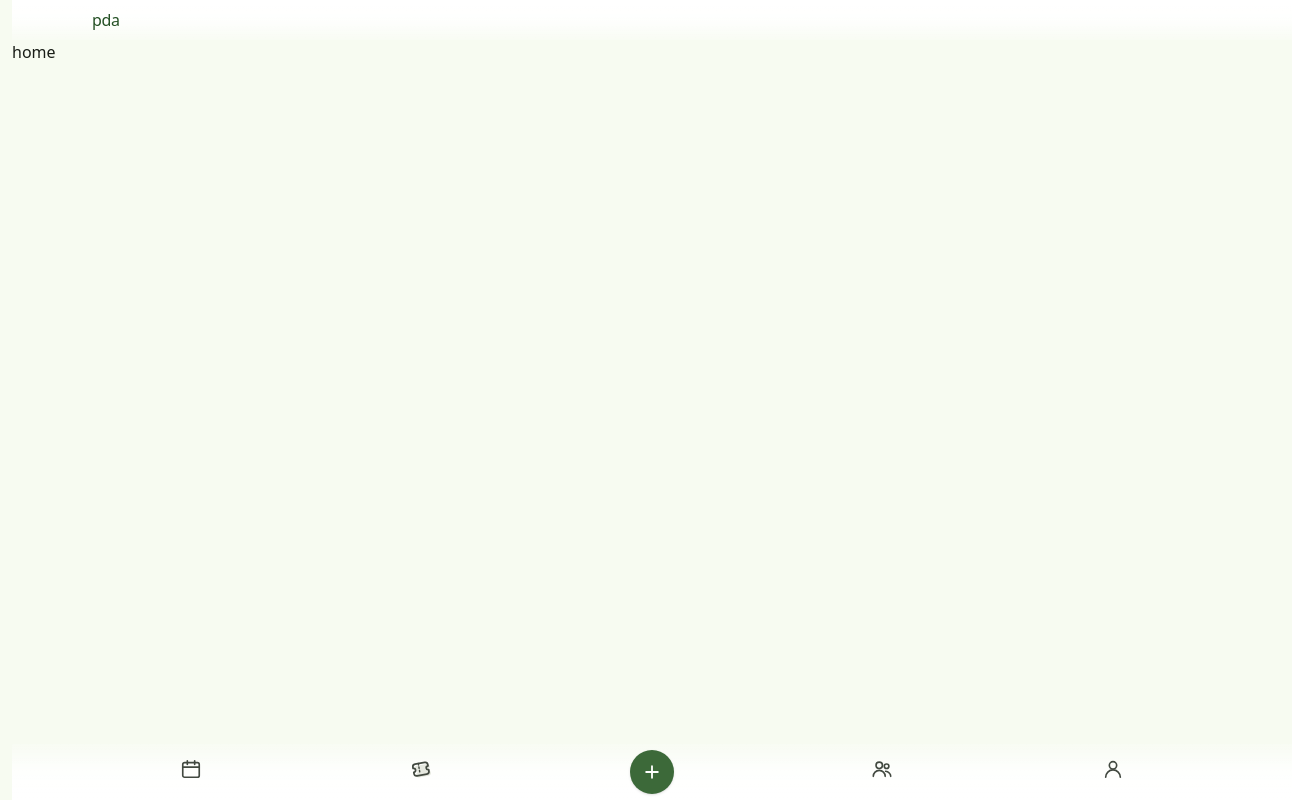
it: AppShell + BottomNav › tapping the calendar nav item navigates to /calendar
Click the link named "calendar" at x=218, y=776, box [180, 758, 256, 794]
(page scrolled)
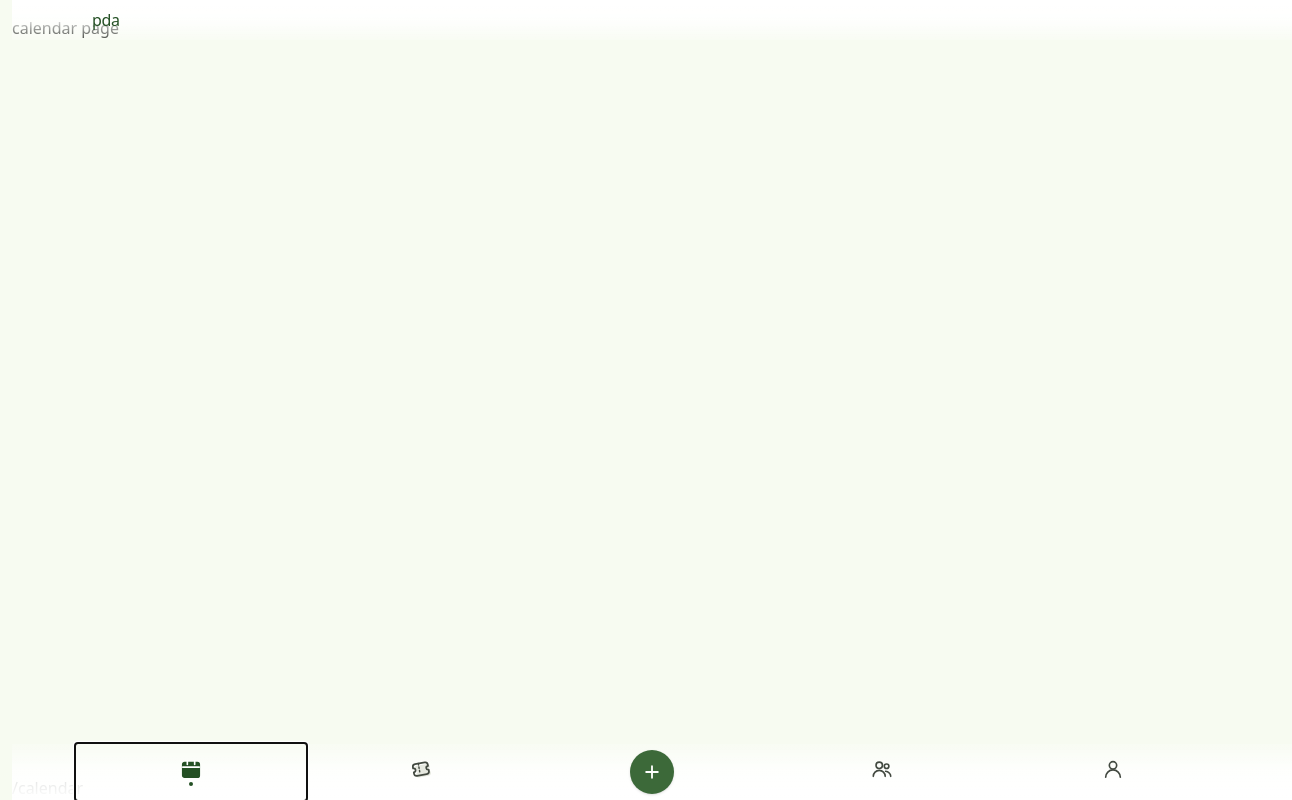
Check: the text with test id "pathname" reads "/calendar", box [12, 777, 83, 799]
